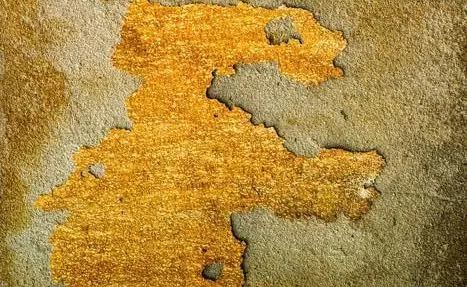Corrosion: (33, 1, 388, 287)
